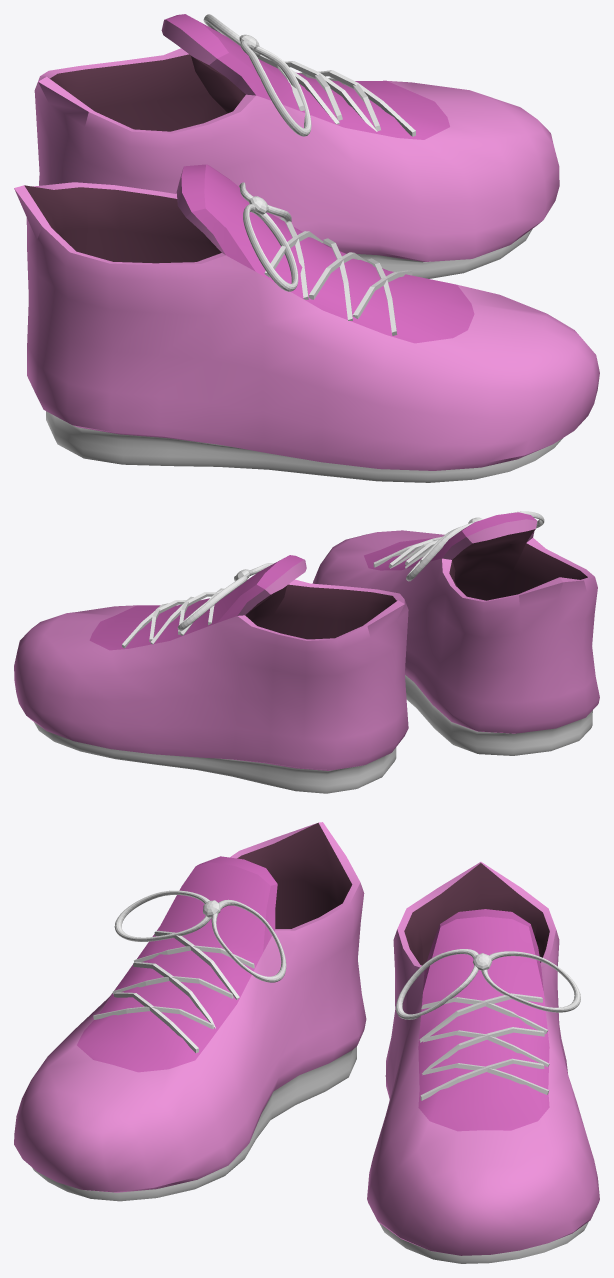
Rendered from shoes.fbx.
3 renders of one model, top to bottom at view 1: azimuth 30°, elevation 25°; view 2: azimuth 150°, elevation 25°; view 3: azimuth 270°, elevation 25°, orthographic. The views are drawn at different scales.
Visible parts, largest first — view 1: shoe.001, shoe, Torus.002, Torus.003, Cube.006, Cube.004; view 2: shoe, shoe.001, Torus.001, Torus.004, Cube.005, Cube.003; view 3: shoe.001, shoe, Torus.002, Torus.001, Torus.003, Torus.004, Cube.006, Cube.004, Cube.002, Cube.005, Cube.003, Cube.011 (+5 smaller).
Boxes of the visible parts, bbox=[...] form: shoe.001: bbox=[14, 164, 599, 482]; shoe: bbox=[34, 14, 559, 278]; Torus.002: bbox=[240, 40, 311, 136]; Torus.003: bbox=[243, 204, 298, 291]; Cube.006: bbox=[318, 70, 415, 136]; Cube.004: bbox=[284, 61, 377, 131]; shoe: bbox=[14, 555, 408, 793]; shoe.001: bbox=[312, 512, 599, 755]; Torus.001: bbox=[177, 575, 247, 630]; Torus.004: bbox=[406, 521, 474, 581]; Cube.005: bbox=[122, 600, 186, 648]; Cube.003: bbox=[150, 592, 215, 644]; shoe.001: bbox=[14, 822, 366, 1201]; shoe: bbox=[367, 862, 599, 1263]; Torus.002: bbox=[396, 949, 478, 1019]; Torus.001: bbox=[481, 951, 580, 1012]; Torus.003: bbox=[114, 890, 211, 941]; Torus.004: bbox=[211, 899, 286, 982]; Cube.006: bbox=[420, 1058, 544, 1100]; Cube.004: bbox=[422, 1027, 544, 1073]; Cube.002: bbox=[419, 993, 542, 1042]; Cube.005: bbox=[422, 1063, 549, 1094]; Cube.003: bbox=[423, 1030, 549, 1067]; Cube.011: bbox=[93, 1006, 213, 1029].
Size of the model in its own units: 261 by 106 by 246.
